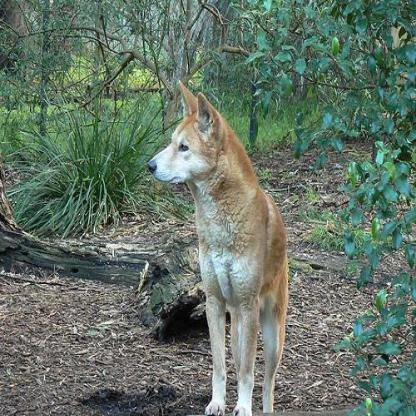dingo: (148, 77, 287, 414)
